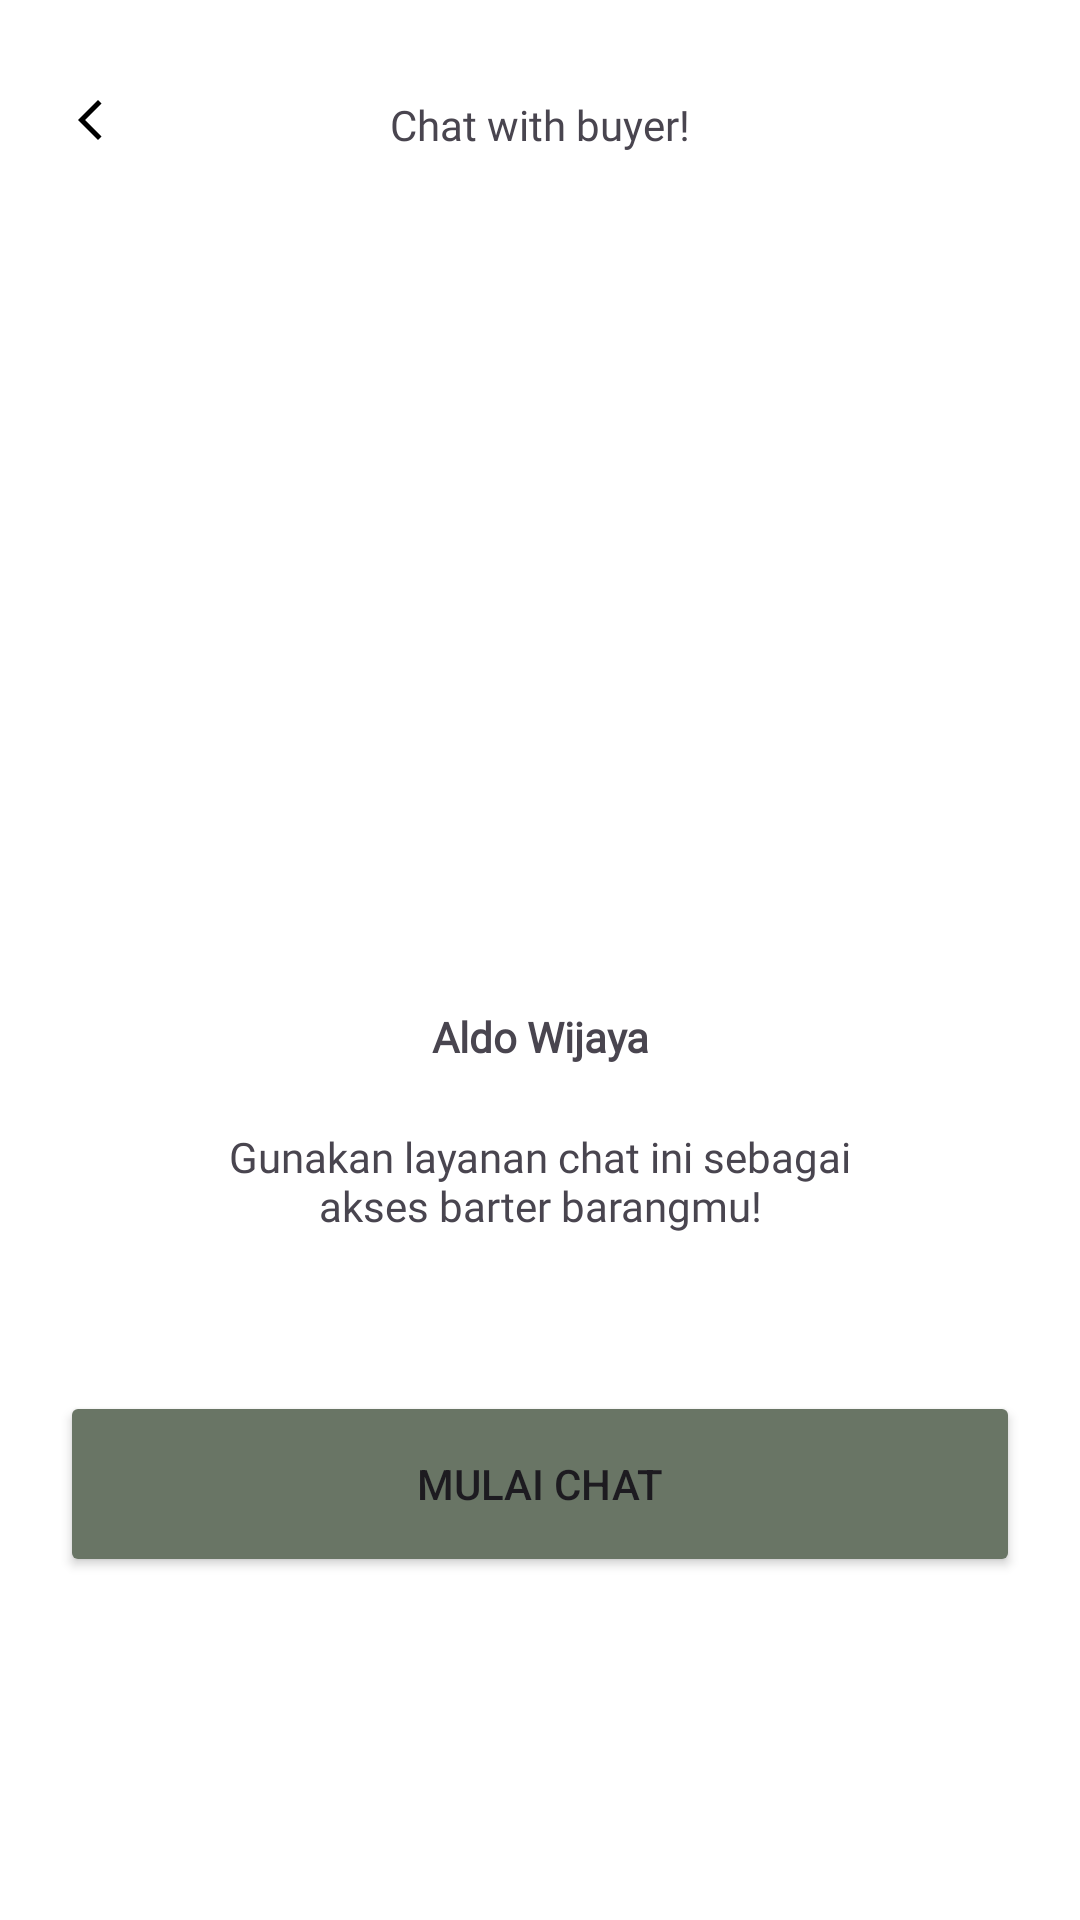

Icons on this 1080px x 1920px Android screen, each with its box as bbox=[x1, y1, x2, y2]:
back: bbox=[78, 100, 102, 140]
